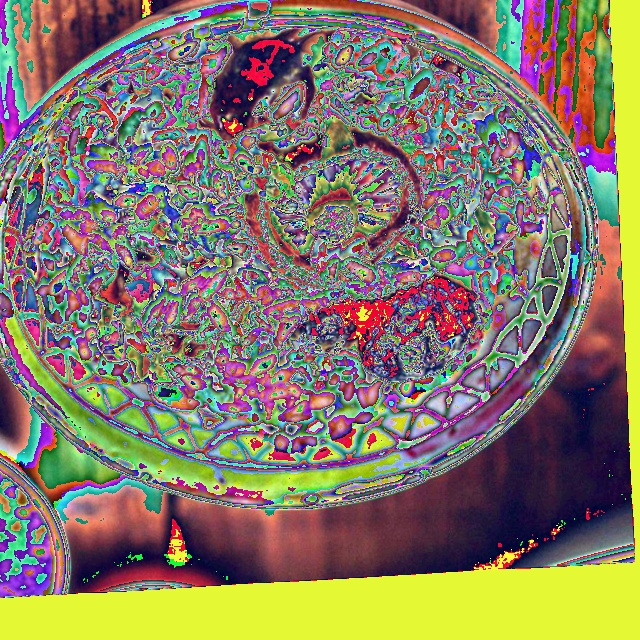background: (35, 27, 537, 456)
